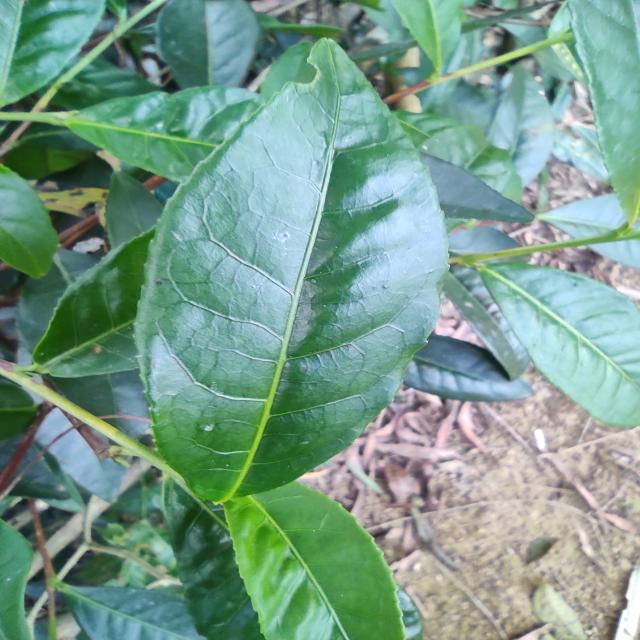Category D(7+ days, Not for Tea): (122, 26, 454, 518)
